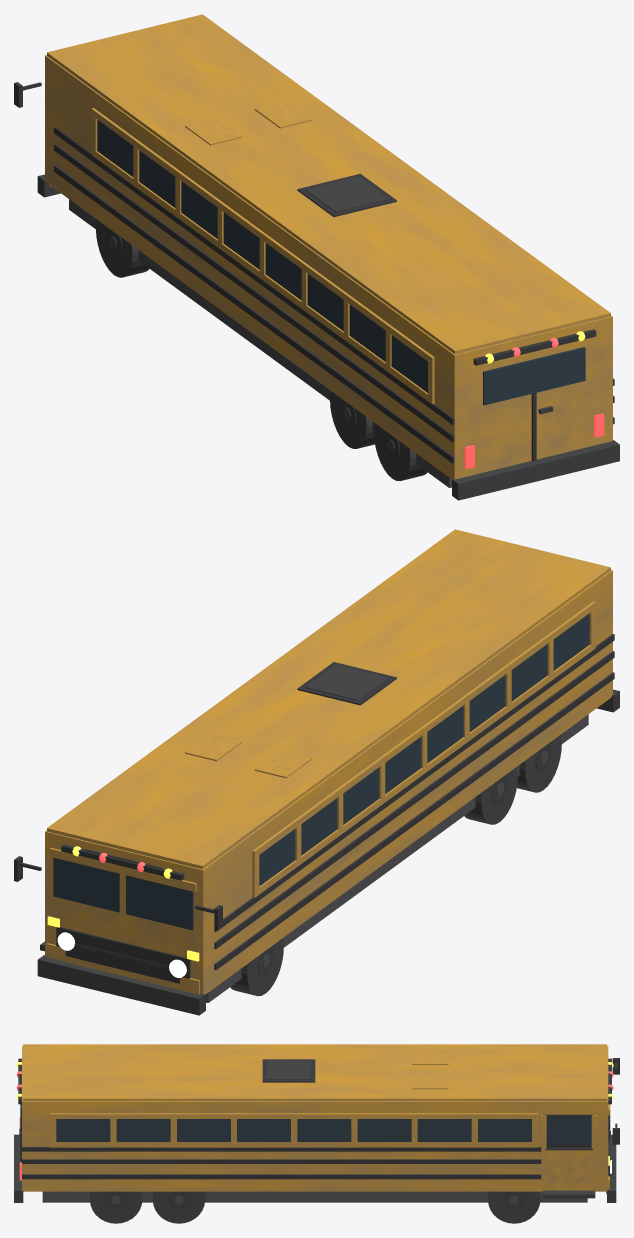
File: bus.glb
The picture shows the model from 3 angles, top to bottom: view 1: azimuth 30°, elevation 25°; view 2: azimuth 150°, elevation 25°; view 3: azimuth 270°, elevation 25°; orthographic projection. The views are drawn at different scales.
Visible parts, largest first — view 1: RoofCap, BodyMain, GlassBand_L, RearBumper, RearWindow, RubRail_L_0, RubRail_L_1, BandHeader_L, Chassis, BandSill_L, RubRail_L_2, RoofHatch (+7 smaller); view 2: RoofCap, BodyMain, GlassBand_L, FrontBumper, RubRail_L_0, RubRail_L_1, BandHeader_L, Chassis, BandSill_L, Windshield_L, Grille, Windshield_R (+11 smaller); view 3: RoofCap, BodyMain, GlassBand_R, Chassis, RubRail_R_0, BandHeader_R, BandSill_R, RubRail_R_2, RubRail_R_1, DoorPanel, DoorGlass, Tire_R_0 (+15 smaller).
Boxes of the visible parts, x1,y1,x2,y2 form: RoofCap: [47, 14, 610, 354]; BodyMain: [45, 55, 612, 479]; GlassBand_L: [97, 120, 427, 392]; RearBumper: [452, 440, 619, 500]; RearWindow: [483, 347, 585, 405]; RubRail_L_0: [54, 165, 454, 463]; RubRail_L_1: [54, 144, 454, 442]; BandHeader_L: [91, 108, 434, 364]; Chassis: [69, 199, 451, 487]; BandSill_L: [91, 149, 434, 404]; RubRail_L_2: [54, 127, 454, 424]; RoofHatch: [305, 176, 388, 212]; RoofCap: [47, 529, 610, 869]; BodyMain: [45, 570, 612, 994]; GlassBand_L: [259, 613, 589, 886]; FrontBumper: [37, 955, 205, 1015]; RubRail_L_0: [214, 672, 614, 970]; RubRail_L_1: [214, 651, 614, 948]; BandHeader_L: [252, 601, 595, 856]; Chassis: [206, 714, 588, 1002]; BandSill_L: [252, 644, 595, 897]; Windshield_L: [126, 875, 193, 930]; Grille: [65, 928, 180, 983]; Windshield_R: [53, 857, 119, 912]; RoofCap: [23, 1044, 607, 1100]; BodyMain: [22, 1046, 608, 1191]; GlassBand_R: [56, 1119, 531, 1142]; Chassis: [42, 1191, 587, 1202]; RubRail_R_0: [22, 1174, 541, 1179]; BandHeader_R: [50, 1113, 538, 1118]; BandSill_R: [50, 1142, 538, 1147]; RubRail_R_2: [22, 1147, 591, 1151]; RubRail_R_1: [22, 1159, 541, 1163]; DoorPanel: [546, 1150, 591, 1190]; DoorGlass: [546, 1117, 591, 1143]; Tire_R_0: [488, 1191, 540, 1223].
Size of the model in its own units: 3.22 by 2.68 by 11.57.
Materials: 10 (10 with a texture image).
